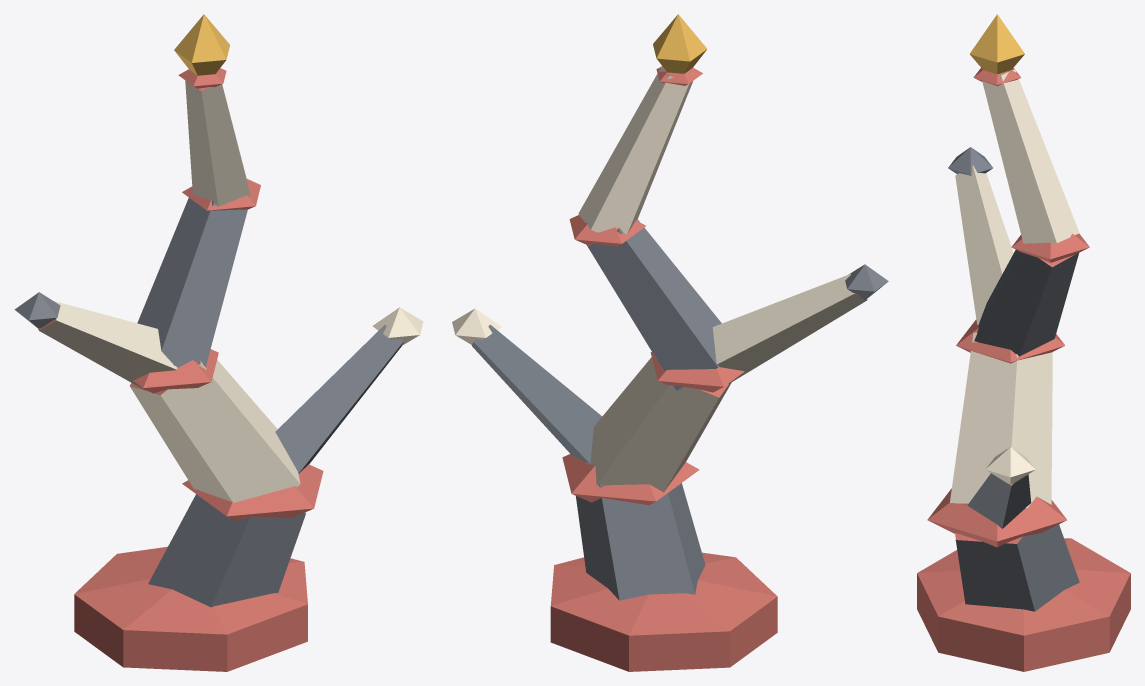
The model's file is deco_lightning_glass.obj.
The picture shows the model from 3 angles, left to right: view 1: azimuth 30°, elevation 25°; view 2: azimuth 150°, elevation 25°; view 3: azimuth 270°, elevation 25°; orthographic projection. The views are drawn at different scales.
Visible parts, largest first — view 1: deco_lightning_glass; view 2: deco_lightning_glass; view 3: deco_lightning_glass.
Part boxes in pixels (x1,y1,x2,y2): deco_lightning_glass: [14, 14, 423, 671]; deco_lightning_glass: [452, 14, 888, 671]; deco_lightning_glass: [917, 14, 1130, 671].
Bounding box in the file's own units: 0.0355 × 0.0517 × 0.016.
1 material, 1 textured.
